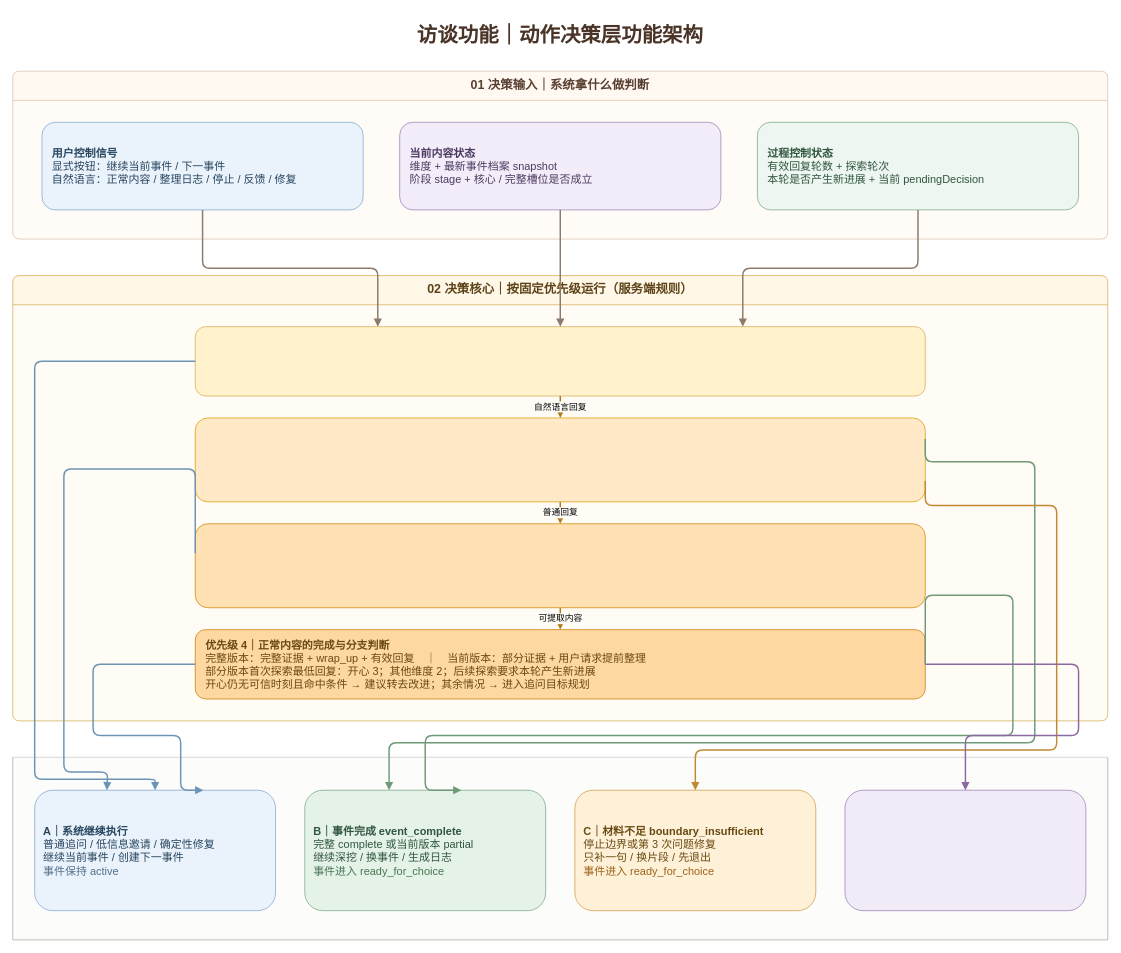
The diagram is 1121 pixels wide and 953 high, and some of its shapes have lost their labels. The shapes that lost their labels are listed below. From the top down, each one's centre as x and y in pixels, then its label:
At [560,361]: "优先级 1｜显式操作路由 继续当前事件 → 恢复同一事件并开启新探索轮次 ｜ 下一事件 → 完成旧事件并创建空事件".
At [560,459]: "优先级 2｜高优先级控制意图 整理日志 / 停止边界 / 对话反馈：跳过抽取，先按现有证据判断 会话或当前事件证据足够 → 当前版本完成；证据不足 → 低压选择".
At [560,565]: "优先级 3｜低信息与问题修复 低信息：保持事件状态与计数，邀请用户补全原话 问题修复：固定规则重问；第 3 次修复 → 低压选择".
At [965,850]: "D｜维度转向 dimension_redirect 当前仅用于开心 → 改进 继续找开心 / 切换到改进 事件进入 ready_for_choice".
